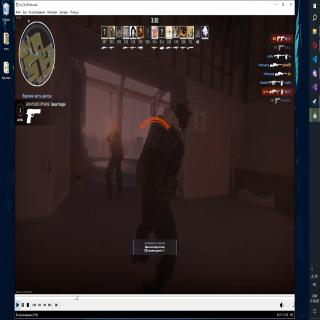CT-Body: (134, 95, 191, 272), (168, 97, 192, 131)
T-Body: (103, 116, 127, 202)
T-Head: (108, 120, 119, 135)
